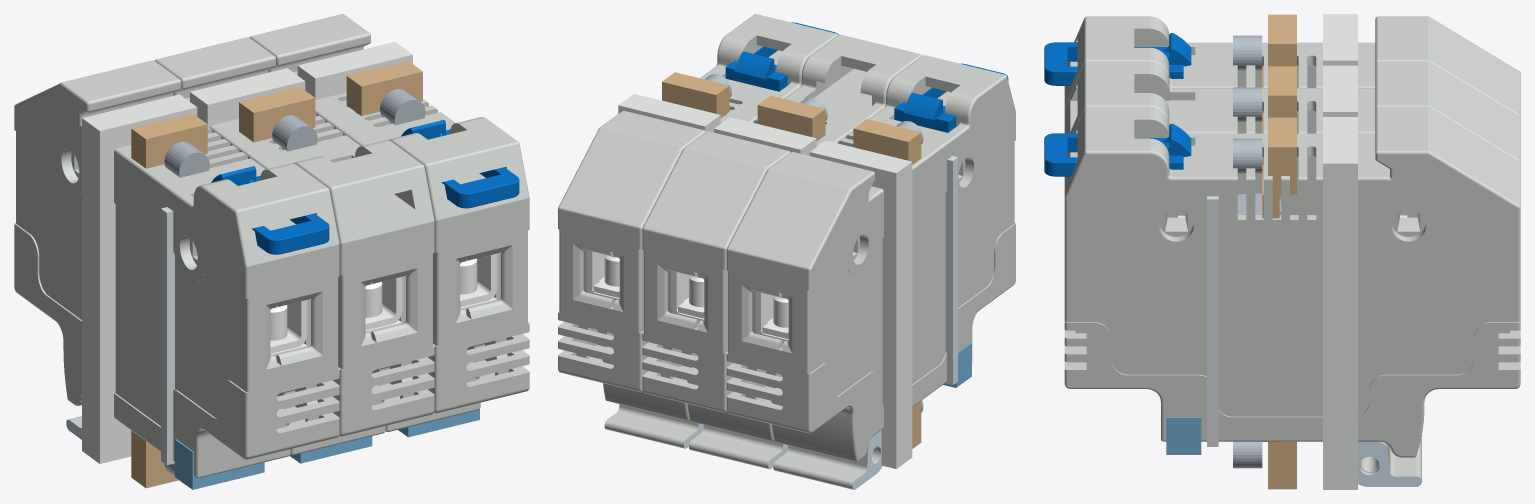
3 renders of one model, left to right at view 1: azimuth 30°, elevation 25°; view 2: azimuth 150°, elevation 25°; view 3: azimuth 270°, elevation 25°, orthographic. The views are drawn at different scales.
Parts seen in each view (by area): view 1: factory_034, factory_017, factory_032, factory_001, housing_000, factory_019, factory_003, carrier_001, housing_013, housing_026, terminals_024, terminals_037 (+16 smaller); view 2: factory_034, factory_017, factory_032, factory_001, housing_000, factory_019, factory_003, factory_033, carrier_001, factory_002, factory_018, terminals_011 (+10 smaller); view 3: factory_001, factory_017, factory_032, housing_026, factory_003, factory_019, factory_034, carrier_027, factory_002, factory_035, factory_004, terminals_037 (+10 smaller).
Part boxes in pixels (<box>): factory_034: <box>14,80,277,478</box>; factory_017: <box>166,37,434,452</box>; factory_032: <box>71,60,339,476</box>; factory_001: <box>261,14,529,429</box>; housing_000: <box>82,94,197,463</box>; factory_019: <box>154,57,372,455</box>; factory_003: <box>249,34,467,431</box>; carrier_001: <box>161,207,174,465</box>; housing_013: <box>190,68,305,127</box>; housing_026: <box>297,42,412,99</box>; terminals_024: <box>239,87,315,142</box>; terminals_037: <box>346,61,422,116</box>; factory_034: <box>781,73,1015,461</box>; factory_017: <box>642,34,912,439</box>; factory_032: <box>726,55,996,459</box>; factory_001: <box>558,14,828,418</box>; housing_000: <box>809,140,912,468</box>; factory_019: <box>697,52,922,441</box>; factory_003: <box>612,32,838,420</box>; factory_033: <box>773,430,882,489</box>; carrier_001: <box>945,156,957,385</box>; factory_002: <box>604,404,703,448</box>; factory_018: <box>689,425,787,469</box>; terminals_011: <box>853,119,921,164</box>; factory_001: <box>1064,111,1520,457</box>; factory_017: <box>1064,66,1520,163</box>; factory_032: <box>1064,20,1520,117</box>; housing_026: <box>1323,117,1357,489</box>; factory_003: <box>1074,107,1520,346</box>; factory_019: <box>1064,62,1520,133</box>; factory_034: <box>1074,16,1520,87</box>; carrier_027: <box>1207,196,1218,446</box>; factory_002: <box>1358,437,1421,486</box>; factory_035: <box>1044,33,1191,85</box>; factory_004: <box>1044,123,1191,176</box>; terminals_037: <box>1268,117,1296,194</box>.
Size of the model in its own units: 0.061 by 0.065 by 0.082.
